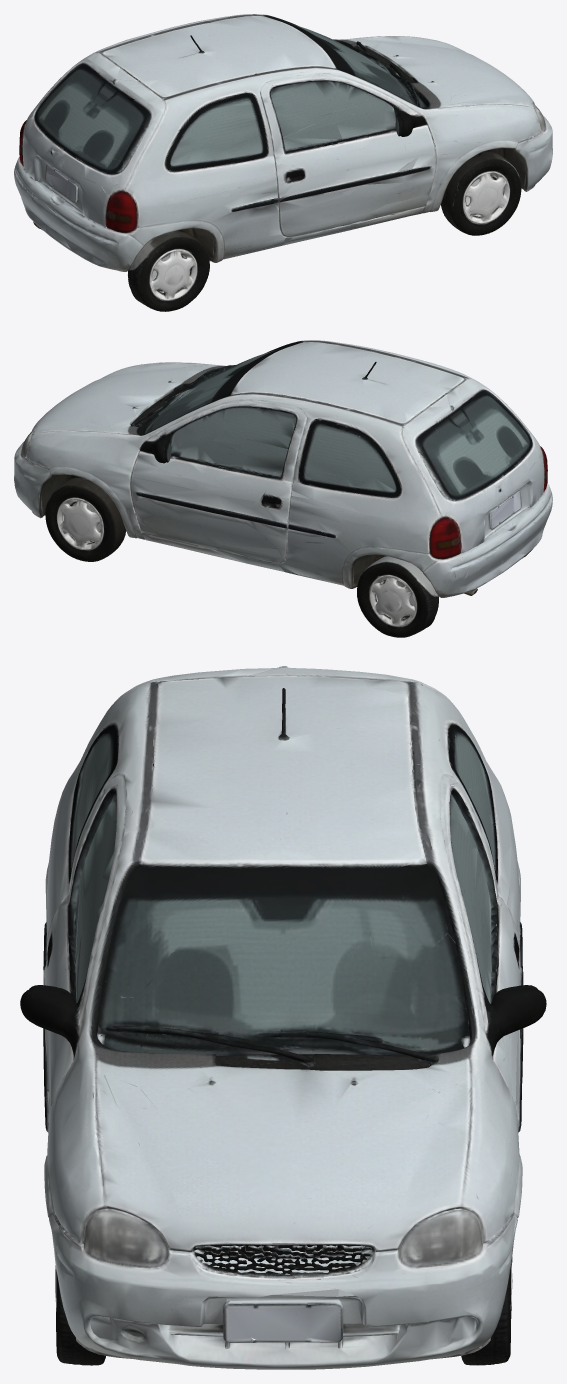
File: caipora__01a1698b.glb
The picture shows the model from 3 angles, top to bottom: view 1: azimuth 30°, elevation 25°; view 2: azimuth 150°, elevation 25°; view 3: azimuth 270°, elevation 25°; orthographic projection. The views are drawn at different scales.
Visible parts, largest first — view 1: caipora__01a1698b; view 2: caipora__01a1698b; view 3: caipora__01a1698b.
Boxes of the visible parts, x1,y1,x2,y2 form: caipora__01a1698b: (14, 14, 552, 311); caipora__01a1698b: (14, 340, 552, 637); caipora__01a1698b: (20, 666, 546, 1369).
Size of the model in its own units: 3.73 by 1.65 by 1.81.
Materials: 1 (1 with a texture image).
